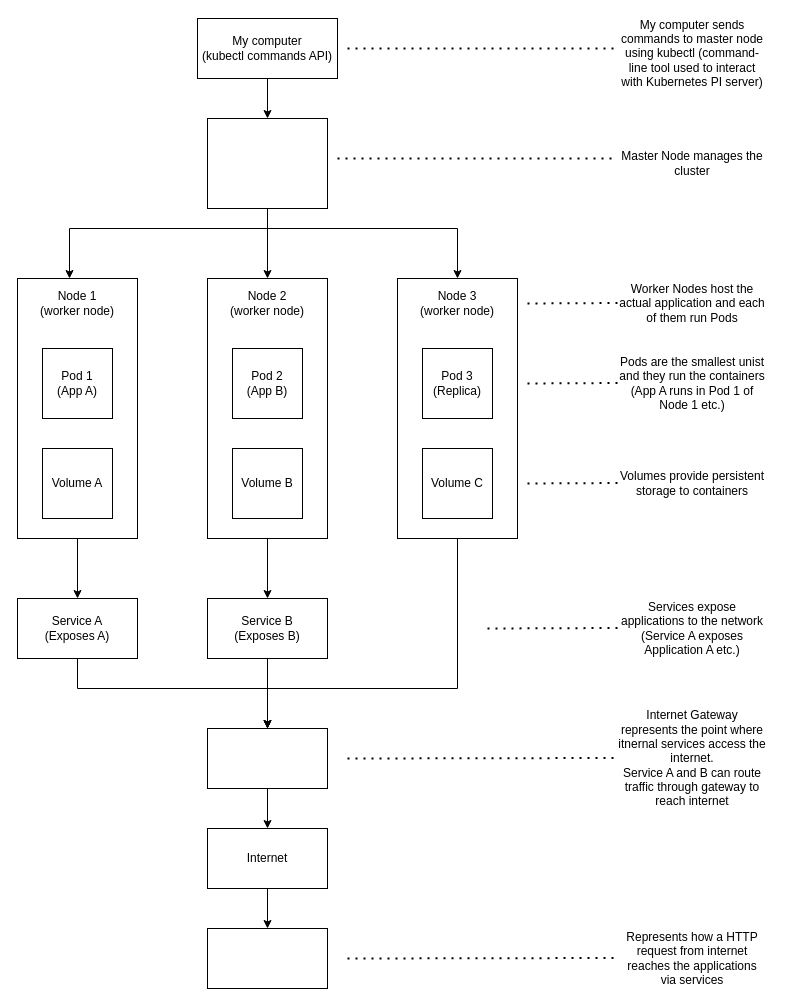
The diagram is 785 pixels wide and 1006 high, and some of its shapes have lost their labels. The shapes that lost their labels are listed below. From the top down, each one's centre as x and y in pixels, then its label:
pixel 267 163: Master Node - API Server - Sheduler - Contoller Manager
pixel 267 758: Internet Gateway
pixel 267 958: External HTTP Request
